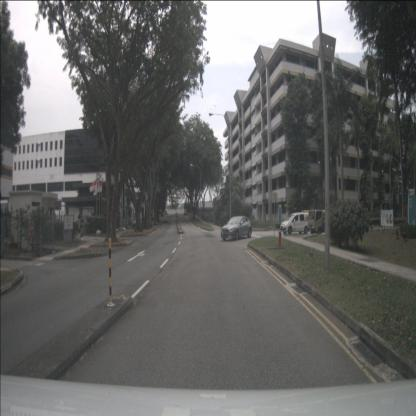vehicle-car: (221, 216, 252, 241), (280, 212, 311, 234)
vehicle-truck: (307, 210, 341, 235), (163, 210, 168, 224)
